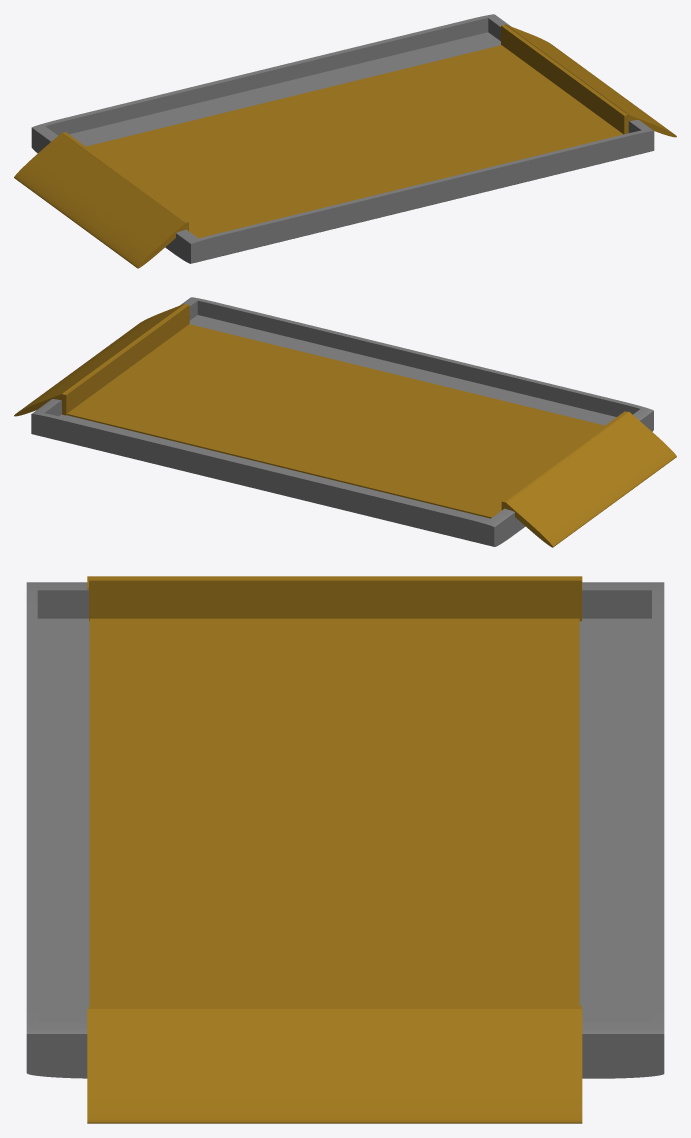
File: CookingSheet.fbx
The picture shows the model from 3 angles, top to bottom: view 1: azimuth 30°, elevation 25°; view 2: azimuth 150°, elevation 25°; view 3: azimuth 270°, elevation 25°; orthographic projection. The views are drawn at different scales.
Visible parts, largest first — view 1: Cube.001, Cube, Cube.003, Cube.004, Cube.002, Cube.005; view 2: Cube.001, Cube, Cube.003, Cube.004, Cube.002, Cube.005; view 3: Cube.001, Cube, Cube.002, Cube.005, Cube.004, Cube.003.
Part boxes in pixels (<box>): Cube.001: <box>86,45,623,238</box>; Cube: <box>31,14,654,263</box>; Cube.003: <box>14,132,187,268</box>; Cube.004: <box>501,25,628,134</box>; Cube.002: <box>505,24,676,137</box>; Cube.005: <box>61,132,188,230</box>; Cube.001: <box>67,324,604,518</box>; Cube: <box>31,297,653,546</box>; Cube.003: <box>502,411,676,547</box>; Cube.004: <box>62,304,189,415</box>; Cube.002: <box>14,303,185,416</box>; Cube.005: <box>501,411,627,510</box>; Cube.001: <box>89,618,579,1005</box>; Cube: <box>26,582,664,1078</box>; Cube.002: <box>87,1009,582,1123</box>; Cube.005: <box>89,577,581,621</box>; Cube.004: <box>89,1005,581,1008</box>; Cube.003: <box>87,576,582,589</box>.
Bounding box in the file's own units: 581 × 35.17 × 298.
